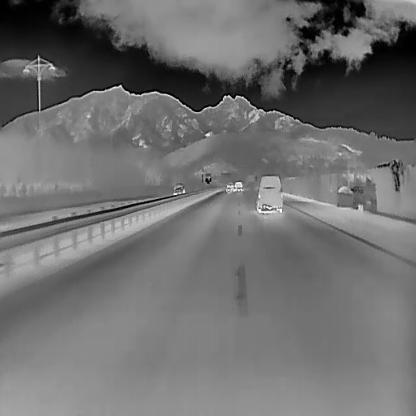car: (255, 173, 283, 213), (172, 181, 185, 194), (233, 178, 243, 192), (225, 180, 233, 192)
